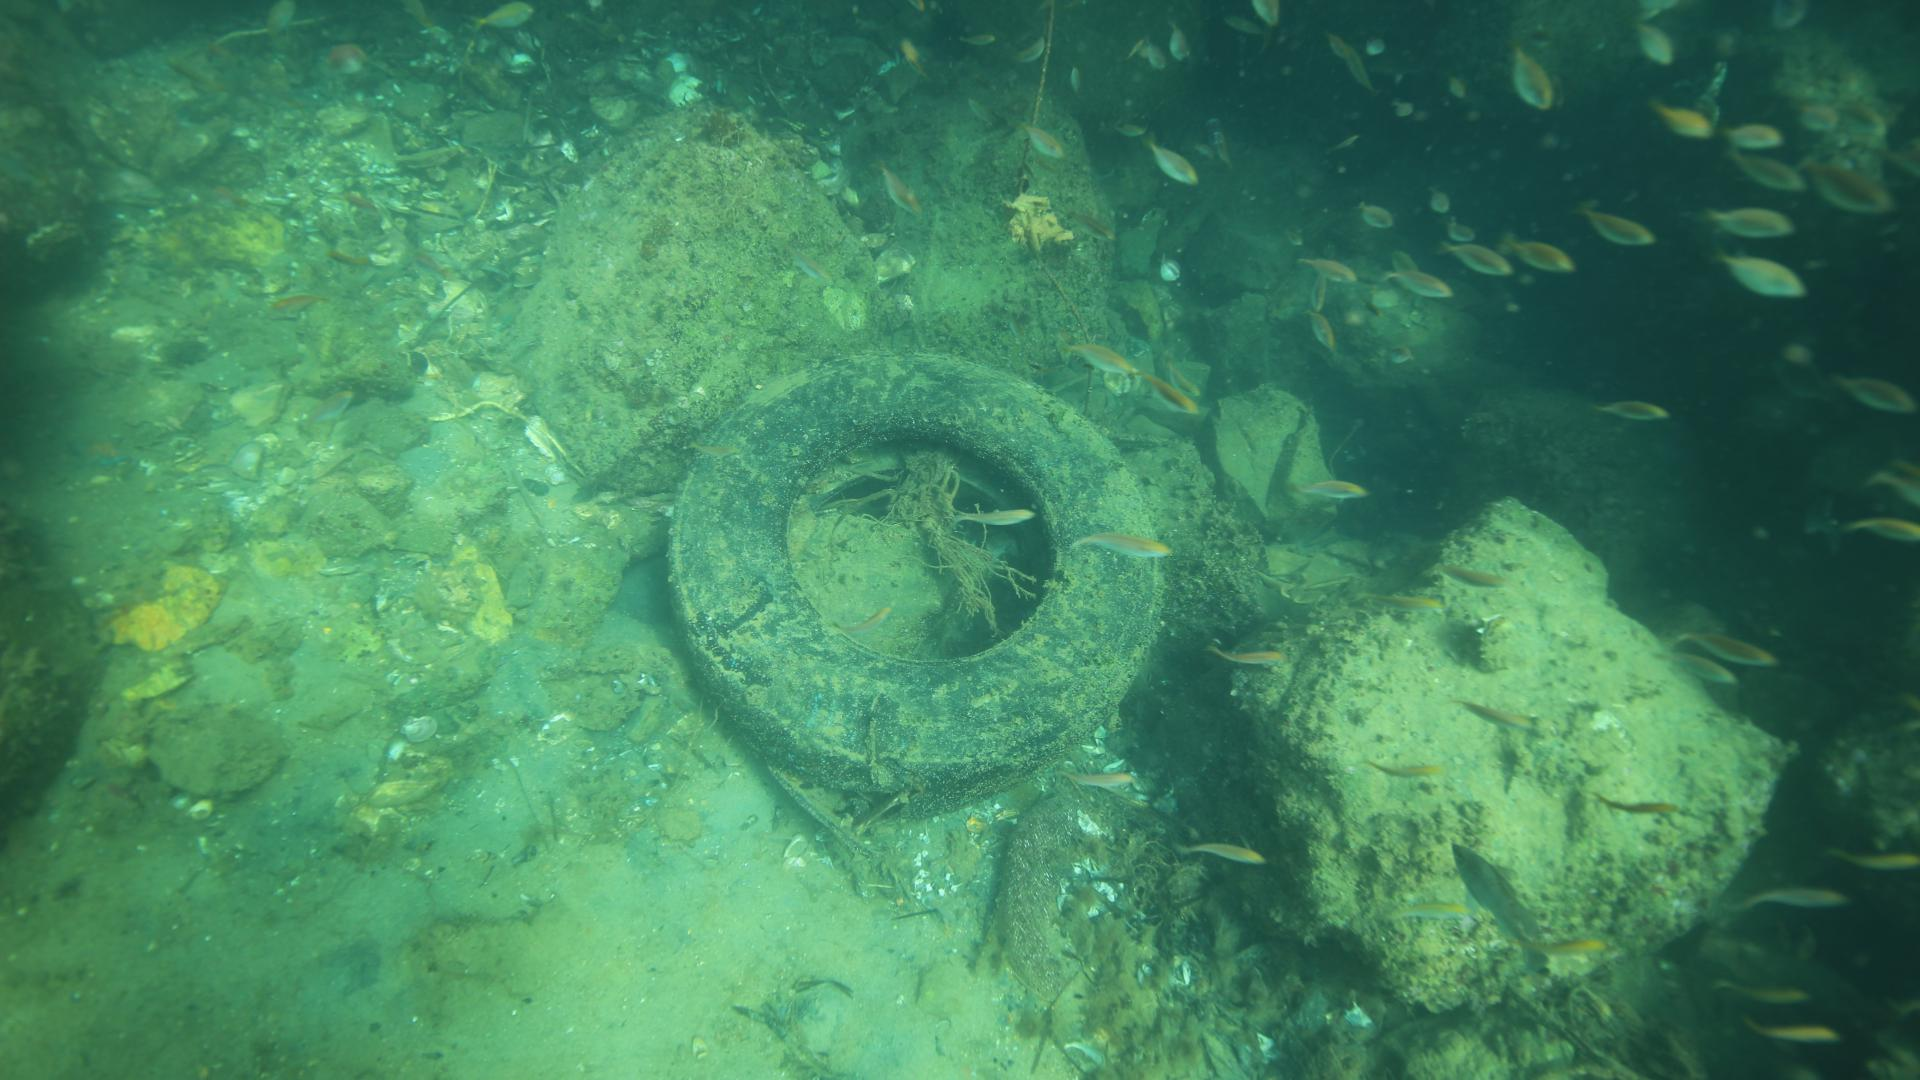tire: (673, 342, 1162, 819)
